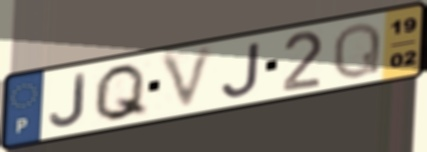2: (281, 28, 325, 92)
J: (219, 39, 263, 99), (47, 70, 88, 129)
Q: (90, 61, 151, 124), (329, 20, 383, 82)
V: (157, 42, 220, 115)
